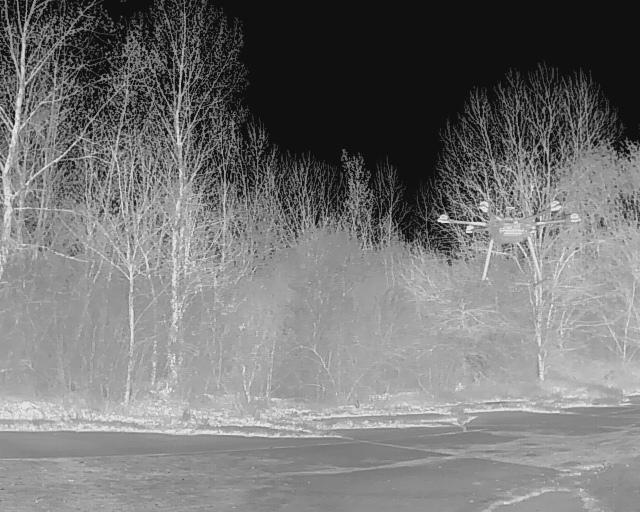drone: (412, 182, 589, 299)
